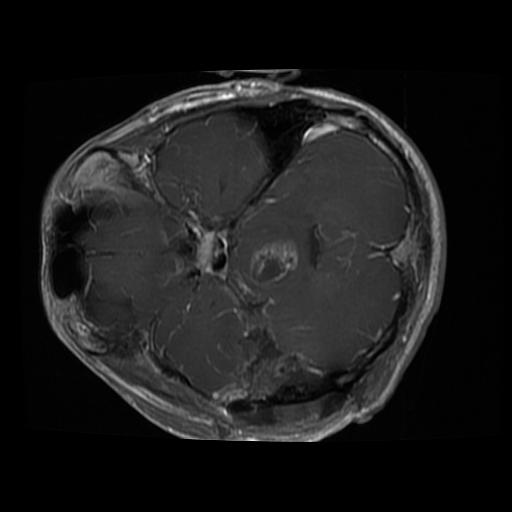glioma: (249, 236, 299, 287)
